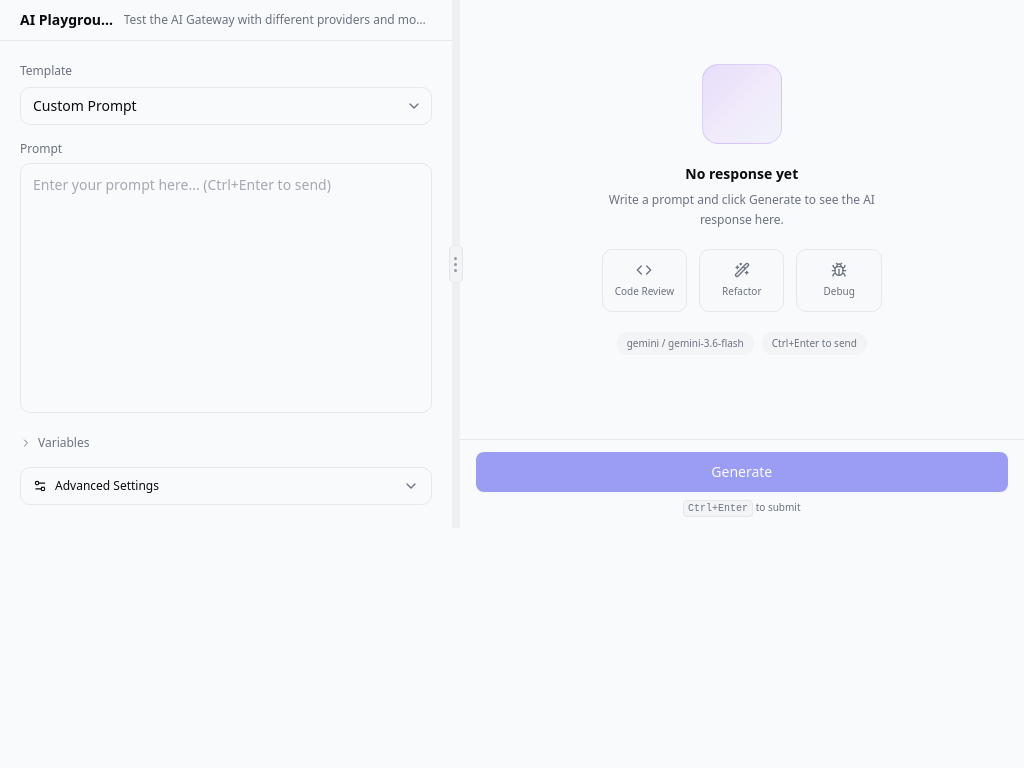
Playground Flow - 10 Steps › Step 1: Open Playground › should have default provider/model selected
// Expand Advanced Settings
Click the button "Advanced Settings" at [107, 485], box [33,468,419,504]
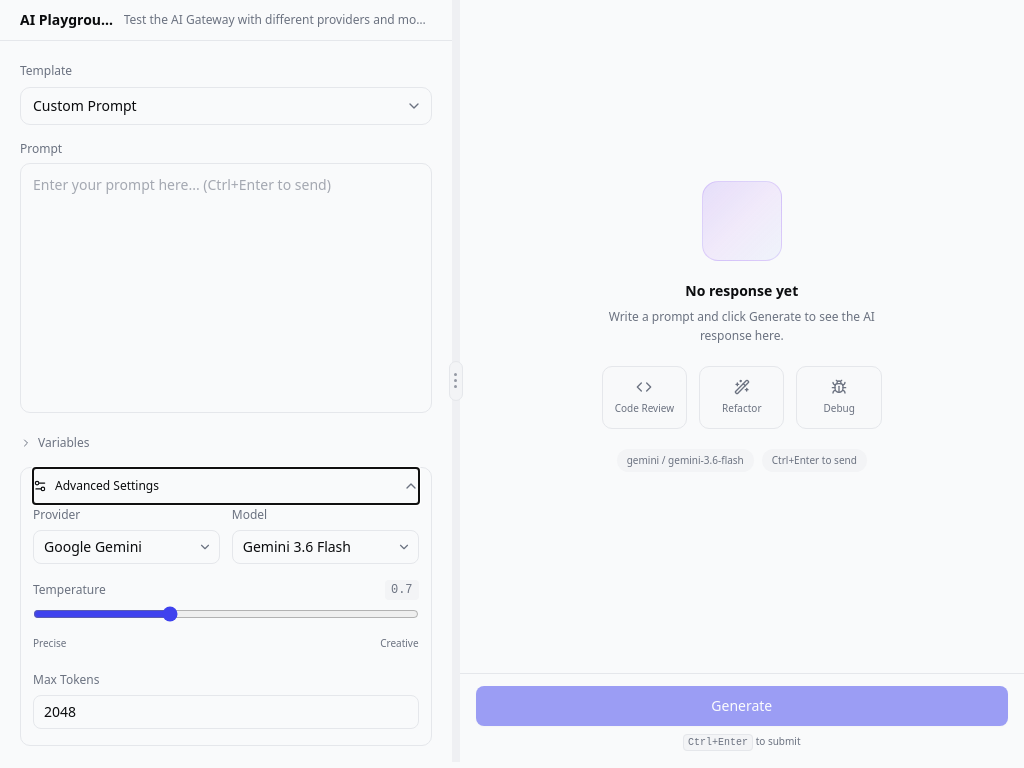
Now the 2nd dropdown shows "Google Gemini", box [33,530,220,564]
Now the 3rd dropdown shows "Gemini 3.6 Flash", box [232,530,419,564]
